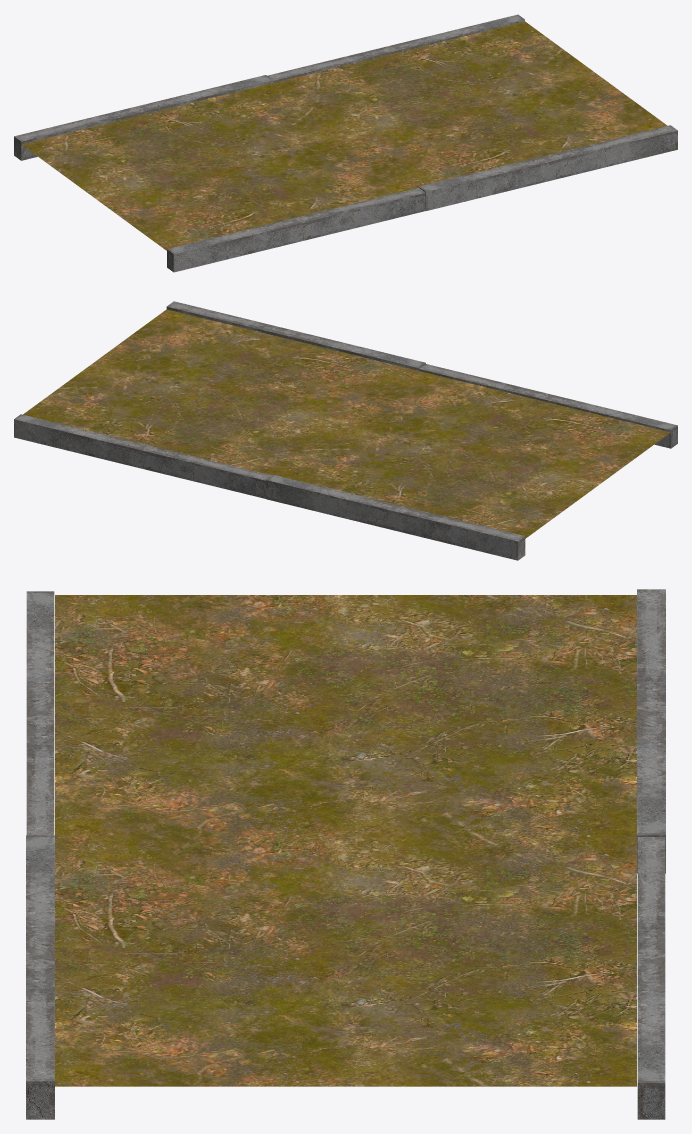
The model's file is HH_Concrete_Island_Ground_8x8m.fbx.
3 views of the same model, one above another, from view 1: azimuth 30°, elevation 25°; view 2: azimuth 150°, elevation 25°; view 3: azimuth 270°, elevation 25° (orthographic). The views are drawn at different scales.
Parts seen in each view (by area): view 1: HH_Concrete_Island_Ground_8x8m; view 2: HH_Concrete_Island_Ground_8x8m; view 3: HH_Concrete_Island_Ground_8x8m.
Boxes of the visible parts, left/top/right/bottom form: HH_Concrete_Island_Ground_8x8m: left=14, top=14, right=677, bottom=272; HH_Concrete_Island_Ground_8x8m: left=14, top=301, right=677, bottom=560; HH_Concrete_Island_Ground_8x8m: left=26, top=589, right=665, bottom=1119.
Bounding box in the file's own units: 800 × 29.16 × 440.
